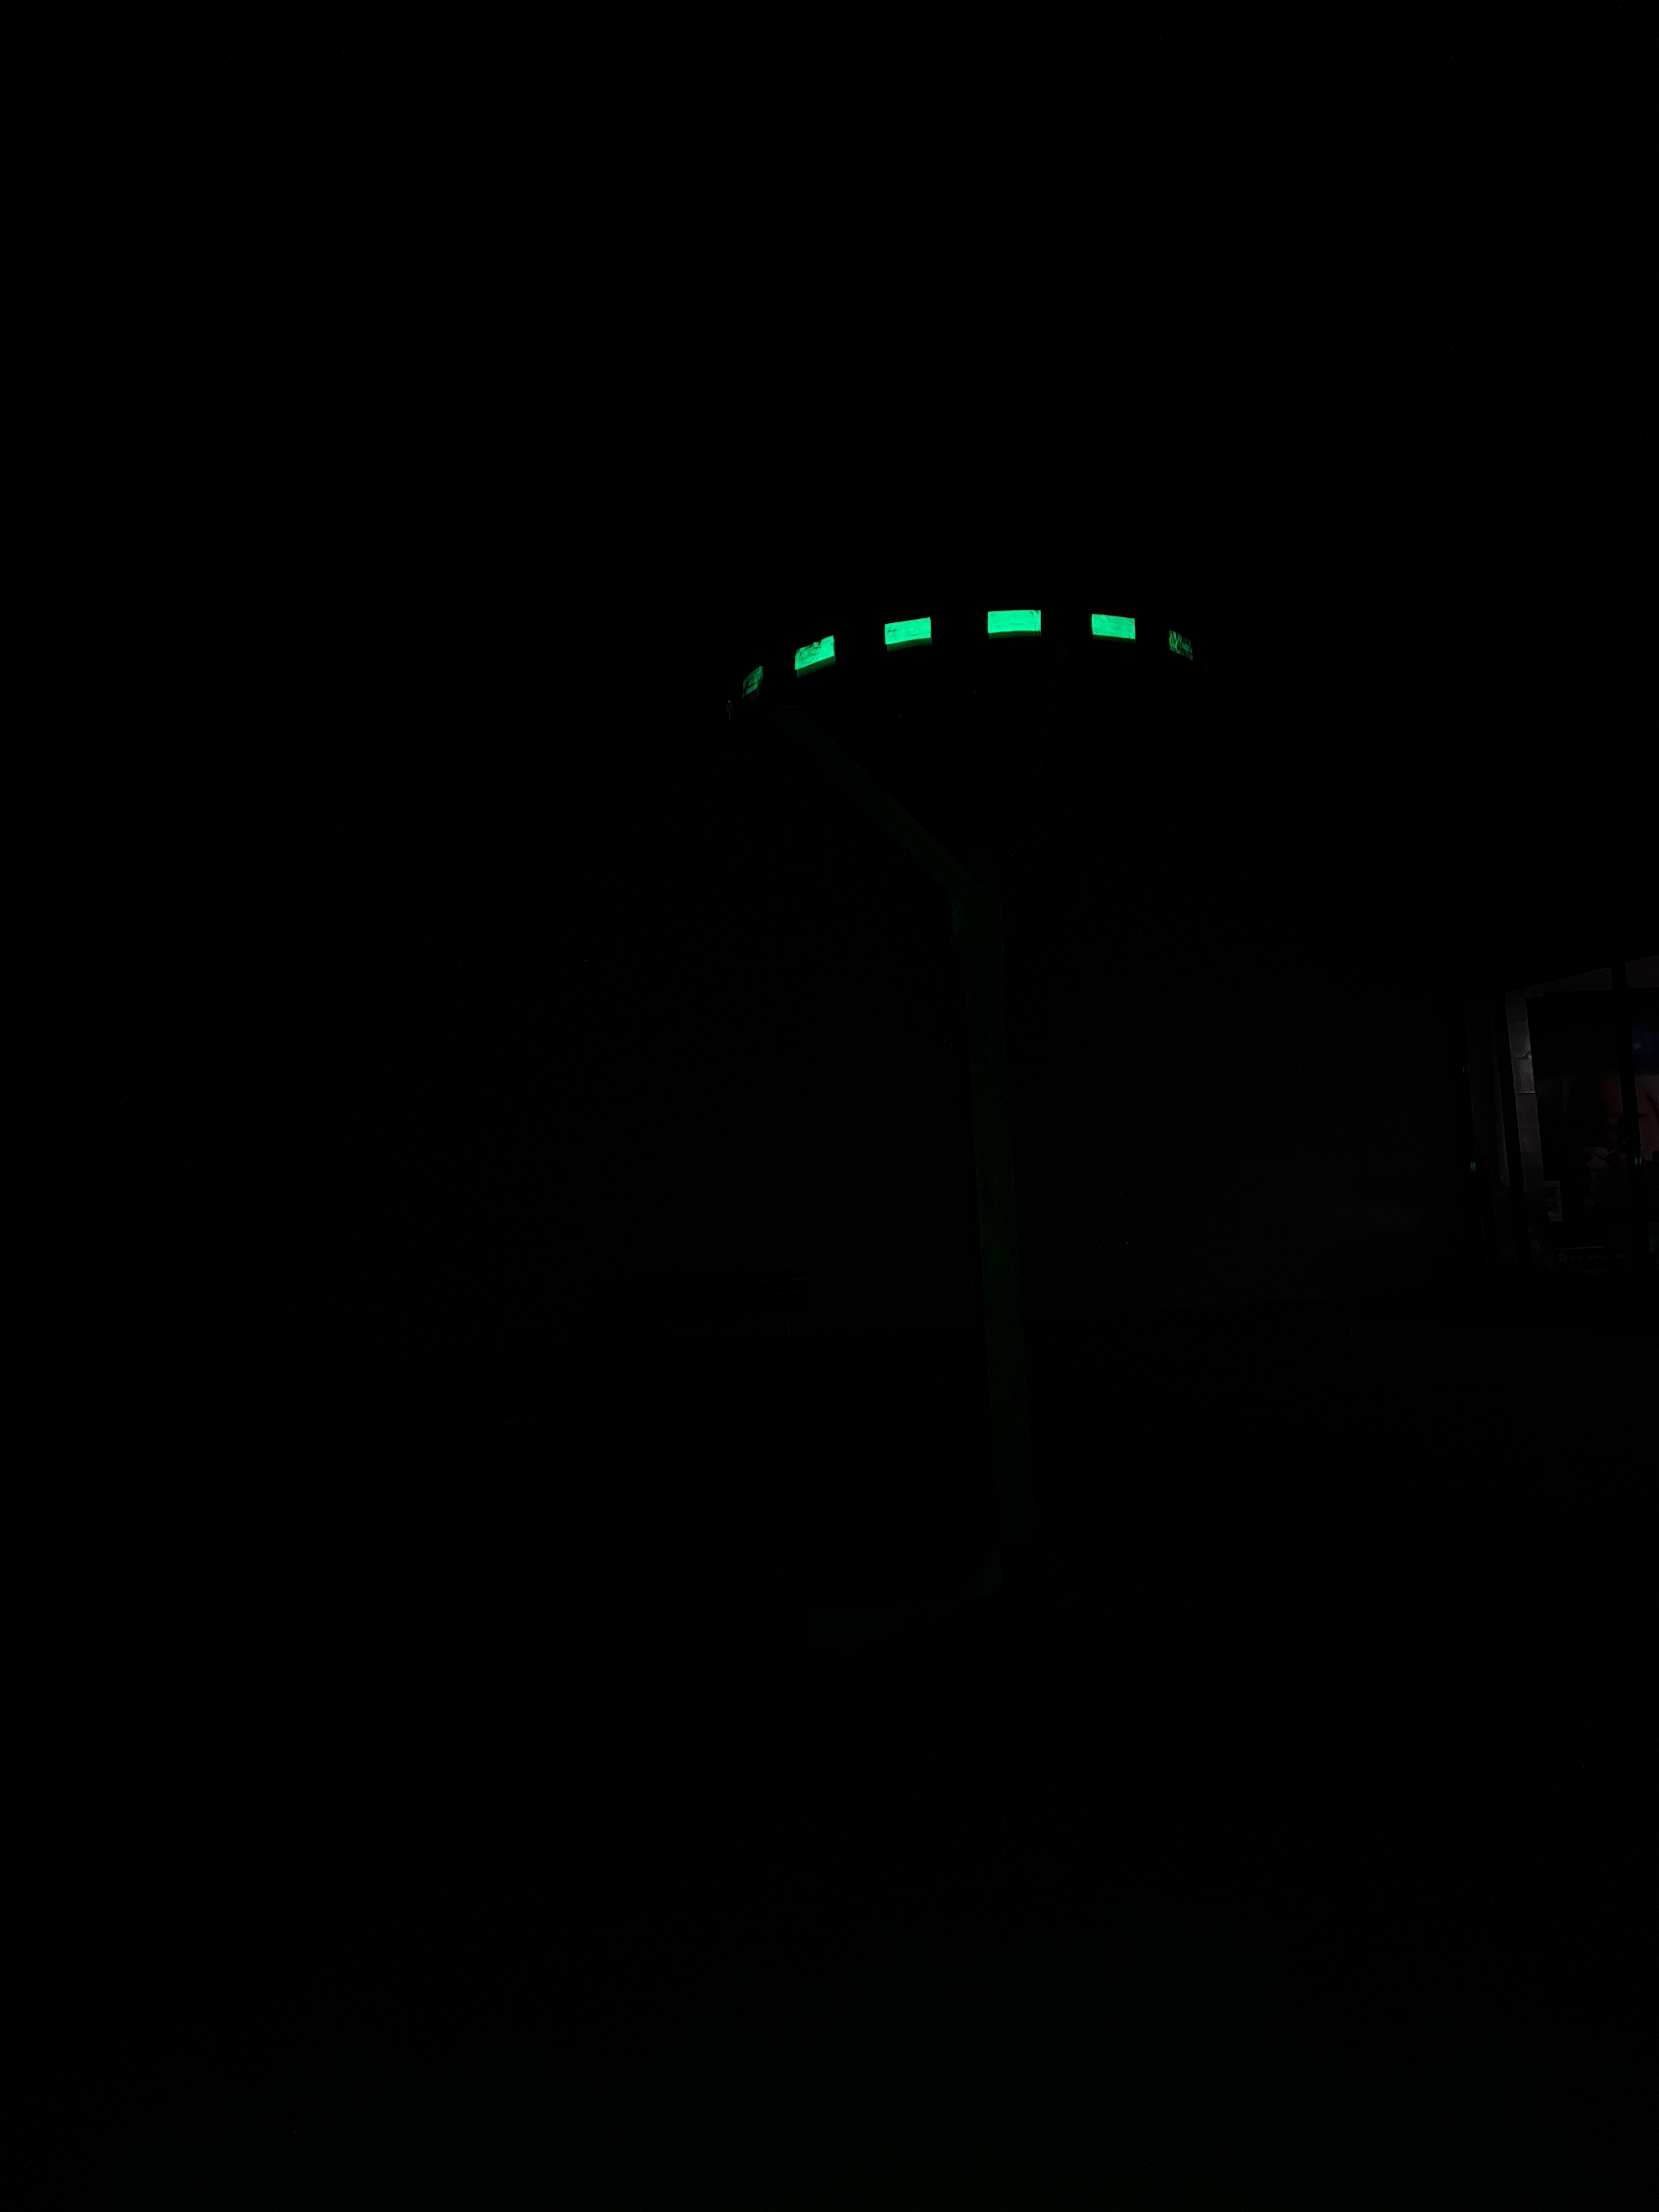hoop: (694, 573, 1241, 738)
